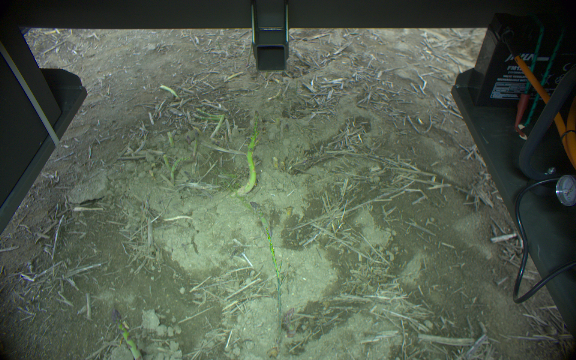aspa: (108, 309, 142, 360), (239, 127, 257, 193), (249, 201, 271, 237), (169, 156, 191, 181), (155, 82, 179, 101), (210, 113, 226, 139), (192, 128, 200, 154)
